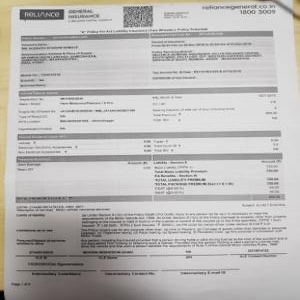image: (20, 7, 66, 21)
table: (18, 30, 276, 88), (18, 86, 279, 130), (15, 152, 284, 193), (16, 130, 282, 153)
text: (15, 201, 284, 254), (198, 4, 279, 15)
